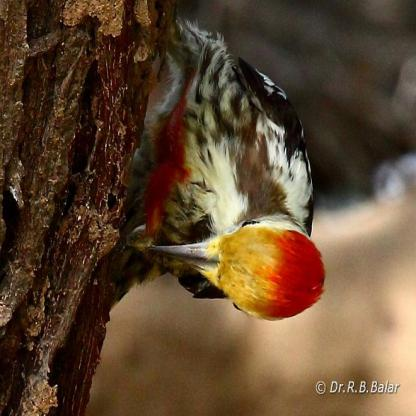Burung: (109, 19, 325, 342)
